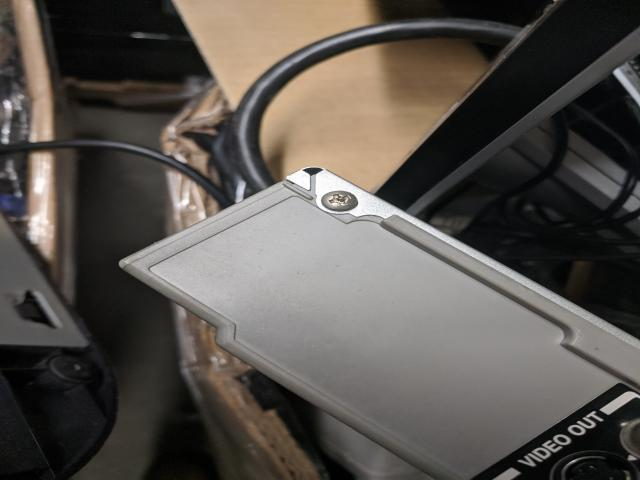CRS: (320, 189, 357, 214)
